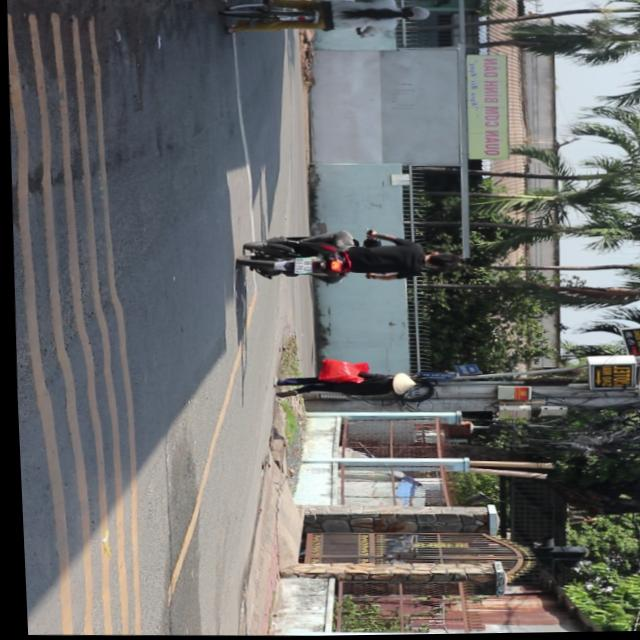licenseplate: (236, 229, 461, 289)
motorcyclist: (420, 252, 457, 273)
nohelmet: (291, 260, 309, 275)
